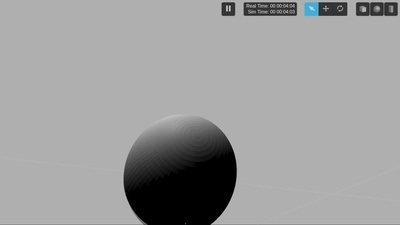mira_robot: (123, 113, 237, 225)
